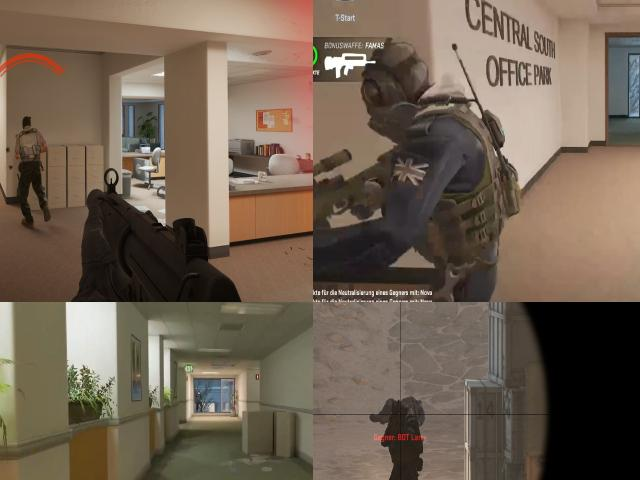CT: (362, 37, 497, 302), (385, 403, 421, 480), (195, 389, 203, 413)
CT-Head: (368, 44, 430, 140), (393, 404, 406, 424)
Dead: (373, 399, 425, 424)
T: (16, 115, 43, 217)
T-Head: (22, 118, 31, 128)
